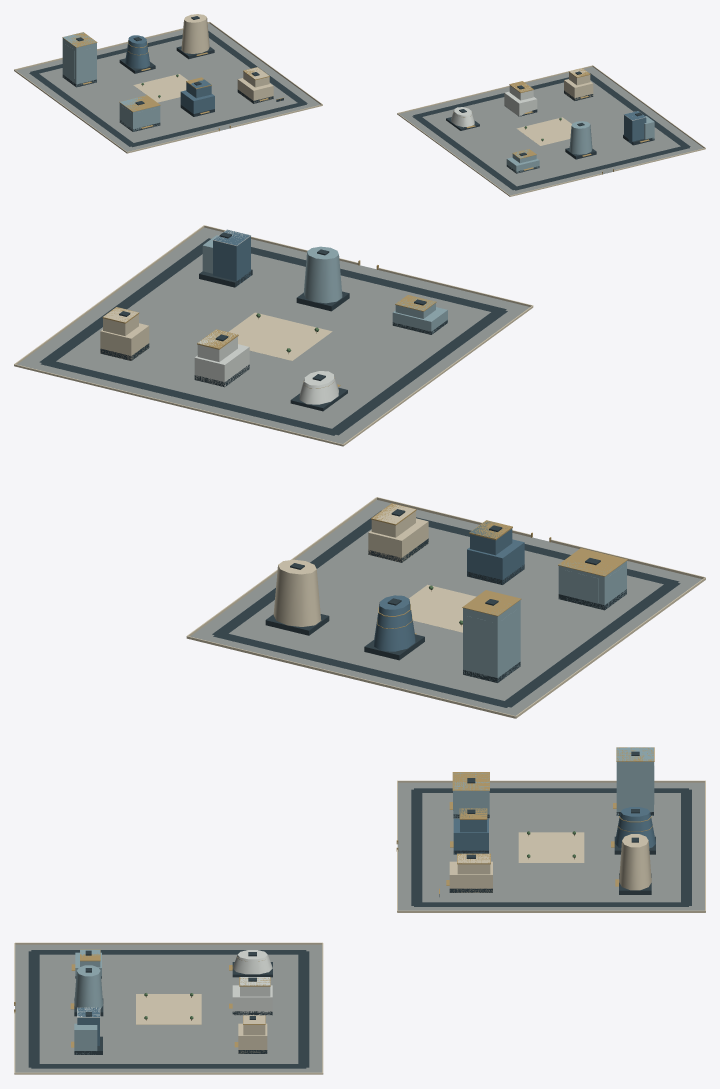
Rendered from GC-TILE-06-04.glb.
The picture shows the model from 3 angles, top to bottom: view 1: azimuth 30°, elevation 25°; view 2: azimuth 150°, elevation 25°; view 3: azimuth 270°, elevation 25°; orthographic projection. The views are drawn at different scales.
Visible parts, largest first — view 1: GC-TILE-06-04-paving, GC-TILE-06-04-dark, GC-TILE-06-04-ivory, GC-TILE-06-04-glass, GC-TILE-06-04-blue, GC-TILE-06-04-gold, GC-TILE-06-04-white; view 2: GC-TILE-06-04-paving, GC-TILE-06-04-dark, GC-TILE-06-04-ivory, GC-TILE-06-04-glass, GC-TILE-06-04-blue, GC-TILE-06-04-gold, GC-TILE-06-04-white; view 3: GC-TILE-06-04-paving, GC-TILE-06-04-ivory, GC-TILE-06-04-dark, GC-TILE-06-04-glass, GC-TILE-06-04-blue, GC-TILE-06-04-gold, GC-TILE-06-04-white.
Part boxes in pixels (x1,y1,x2,y2): GC-TILE-06-04-paving: (16,23,703,195); GC-TILE-06-04-dark: (29,16,690,190); GC-TILE-06-04-ivory: (14,14,705,196); GC-TILE-06-04-glass: (62,32,654,172); GC-TILE-06-04-blue: (125,35,646,144); GC-TILE-06-04-gold: (62,32,649,174); GC-TILE-06-04-white: (451,84,646,127); GC-TILE-06-04-paving: (17,227,701,715); GC-TILE-06-04-dark: (39,232,680,707); GC-TILE-06-04-ivory: (14,225,705,718); GC-TILE-06-04-glass: (202,235,626,682); GC-TILE-06-04-blue: (213,229,524,651); GC-TILE-06-04-gold: (102,260,627,634); GC-TILE-06-04-white: (194,229,338,404); GC-TILE-06-04-paving: (15,782,704,1072); GC-TILE-06-04-ivory: (14,780,705,1074); GC-TILE-06-04-dark: (28,751,691,1068); GC-TILE-06-04-glass: (74,747,654,1054); GC-TILE-06-04-blue: (77,807,655,1045); GC-TILE-06-04-gold: (14,747,654,1047); GC-TILE-06-04-white: (77,950,272,1017).
Size of the model in its own units: 759 by 67.9 by 760.
